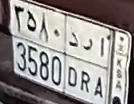0: (49, 26, 62, 87)
3: (14, 2, 26, 74)
5: (26, 9, 38, 77)
8: (39, 11, 50, 82)
A: (93, 35, 107, 99)
D: (65, 30, 79, 91)
R: (80, 36, 94, 93)
